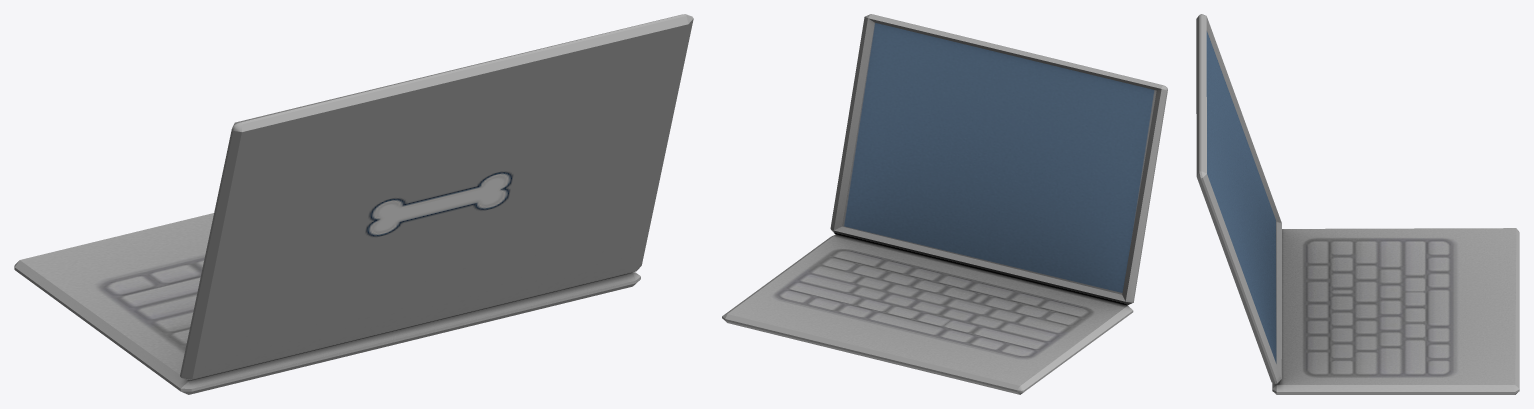
The model's file is laptop.fbx.
3 views of the same model, side by side, from view 1: azimuth 30°, elevation 25°; view 2: azimuth 150°, elevation 25°; view 3: azimuth 270°, elevation 25° (orthographic). The views are drawn at different scales.
Parts seen in each view (by area): view 1: pCube2, pCube1; view 2: pCube2, pCube1; view 3: pCube1, pCube2.
Part boxes in pixels (left/top/right/bottom): pCube2: left=180, top=14, right=693, bottom=380; pCube1: left=14, top=213, right=640, bottom=394; pCube2: left=830, top=14, right=1167, bottom=305; pCube1: left=722, top=234, right=1133, bottom=394; pCube1: left=1272, top=228, right=1519, bottom=394; pCube2: left=1196, top=14, right=1281, bottom=384.
Size of the model in its own units: 11.13 by 7.18 by 9.4.
